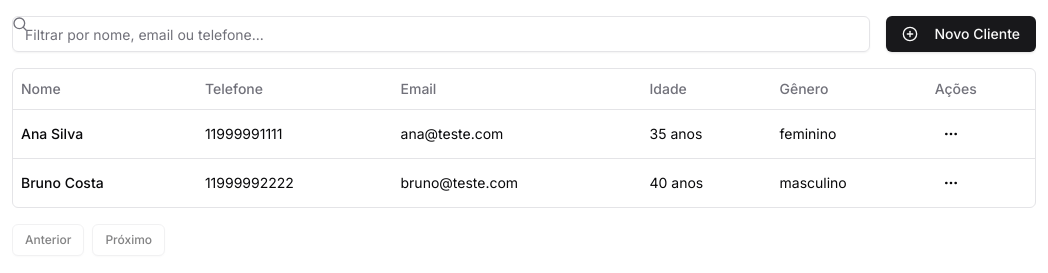
Scenario: ClientsDataTable › deve filtrar a tabela com base no input global (Plano 3.2.4)
Expected: the text "Ana Silva" is shown, [21,124,83,142]
Expected: the text "Bruno Costa" is shown, [21,174,104,190]
// Filtra por "Bruno"
Type "Bruno" into the field with placeholder "Filtrar por nome, email ou telefone..." at (441, 34), box [12,16,870,52]
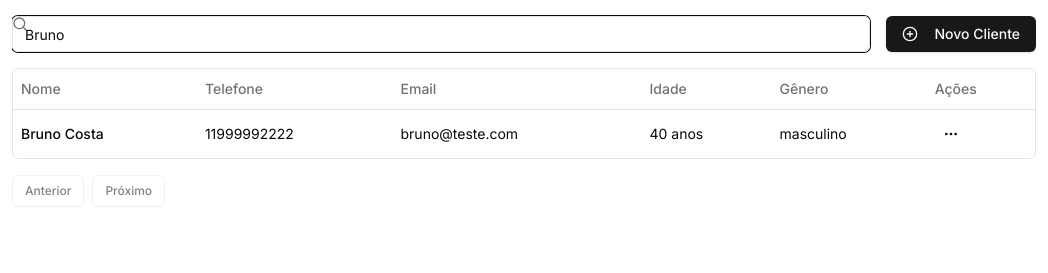
Expected: the text "Bruno Costa" is shown, [21,124,104,142]
Expected: the text "Ana Silva" is gone
// Limpa o filtro
Clear the field with placeholder "Filtrar por nome, email ou telefone..." at (441, 34), box [12,16,870,52]
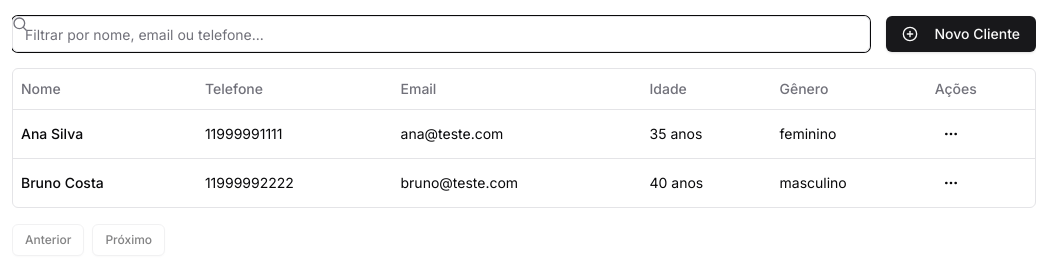
Expected: the text "Ana Silva" is shown, [21,124,83,142]
